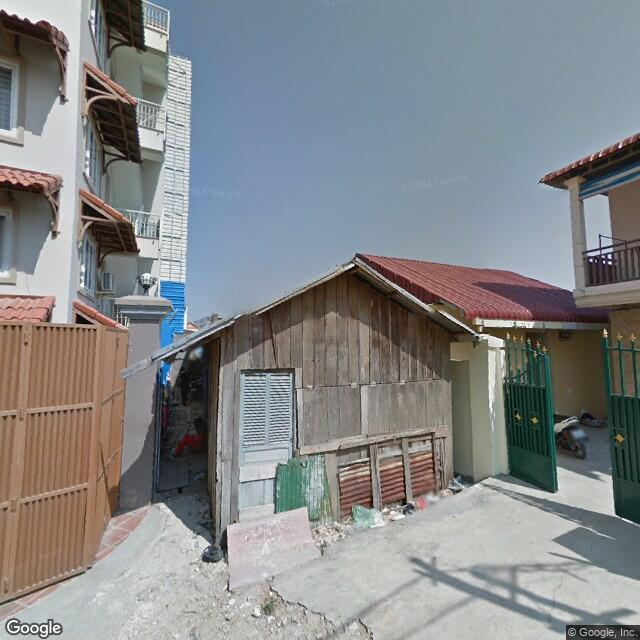litter: (347, 498, 385, 533), (399, 500, 432, 519)
